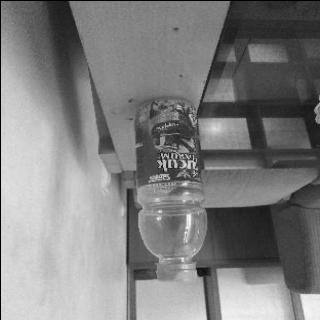plastic_bottles: (128, 95, 208, 283)
